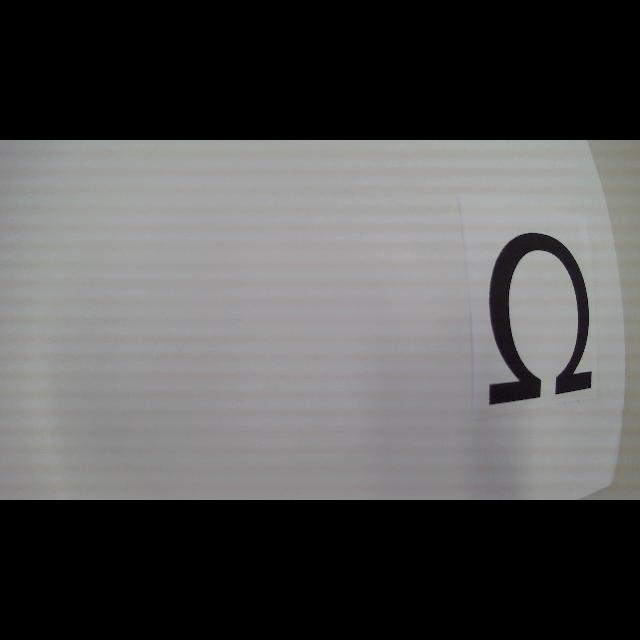OMEGA: (489, 233, 593, 405)
